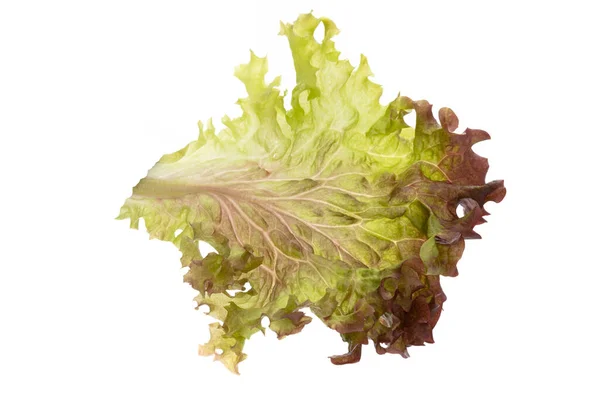lettuce: (89, 28, 522, 335)
